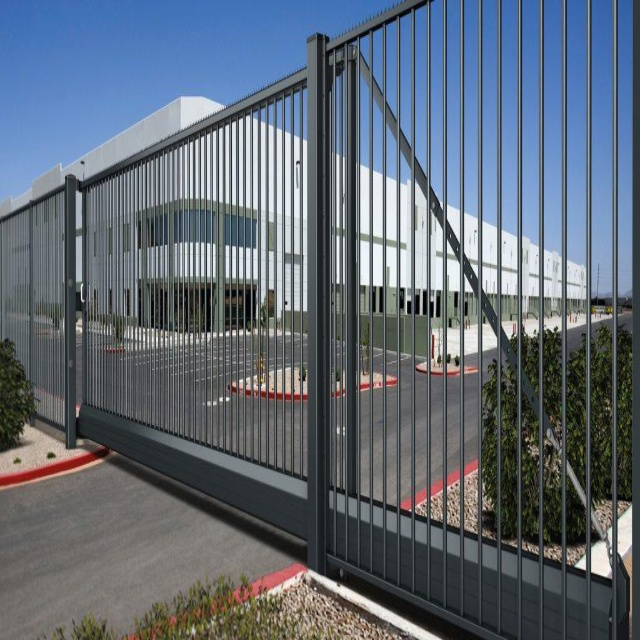obstacle: (53, 129, 640, 579)
